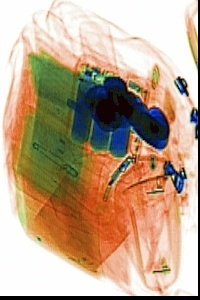powerbank: (66, 51, 154, 163)
